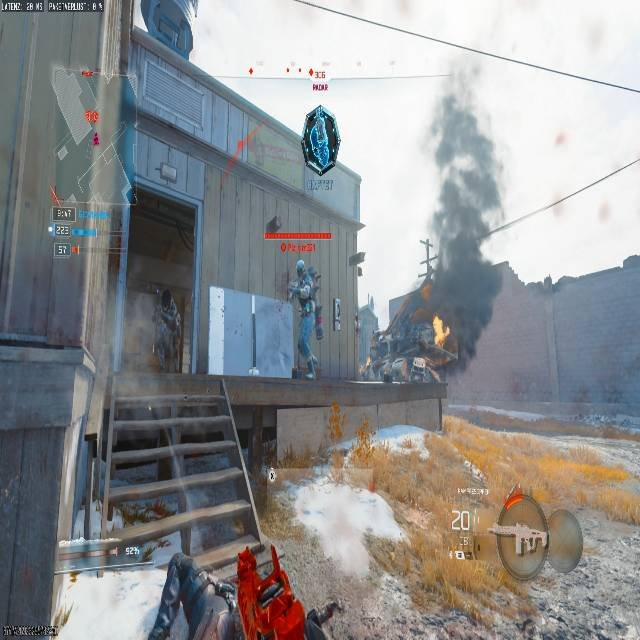head: (295, 259, 306, 274)
player: (288, 259, 321, 372), (147, 285, 184, 373), (291, 256, 320, 300)
